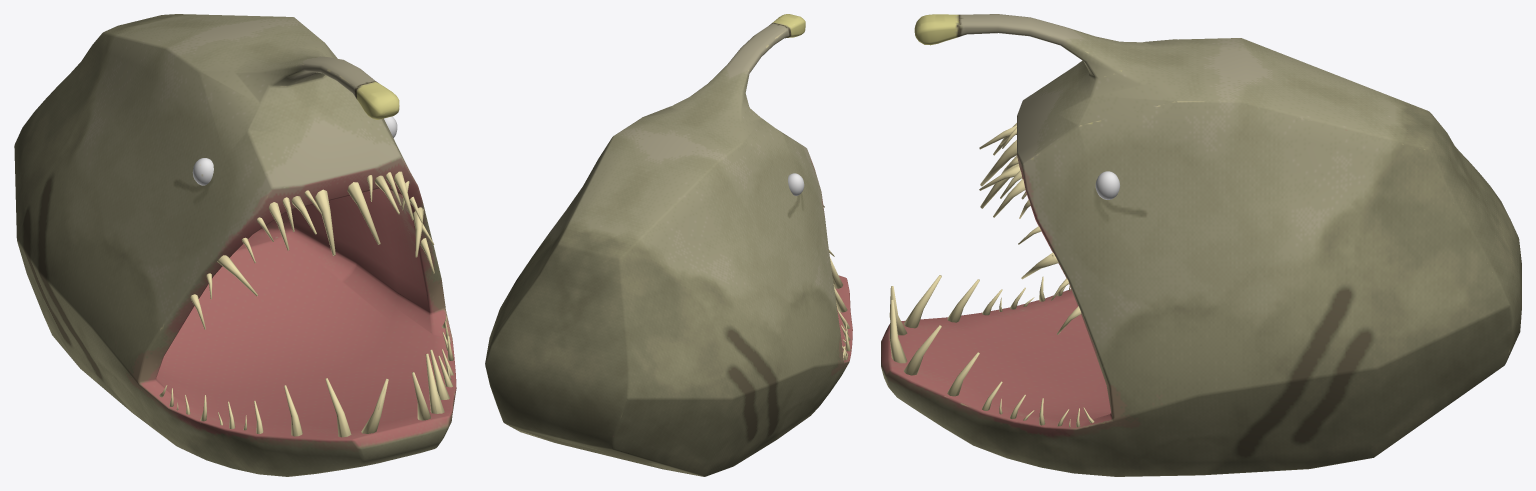
File: angler_fish.fbx
The picture shows the model from 3 angles, left to right: view 1: azimuth 30°, elevation 25°; view 2: azimuth 150°, elevation 25°; view 3: azimuth 270°, elevation 25°; orthographic projection. The views are drawn at different scales.
Visible parts, largest first — view 1: Anglerfish_low; view 2: Anglerfish_low; view 3: Anglerfish_low.
Boxes of the visible parts, x1=… form: Anglerfish_low: x1=14, y1=14, x2=456, y2=476; Anglerfish_low: x1=485, y1=14, x2=852, y2=476; Anglerfish_low: x1=881, y1=14, x2=1521, y2=476.
Bounding box in the file's own units: 440 × 524 × 750.
